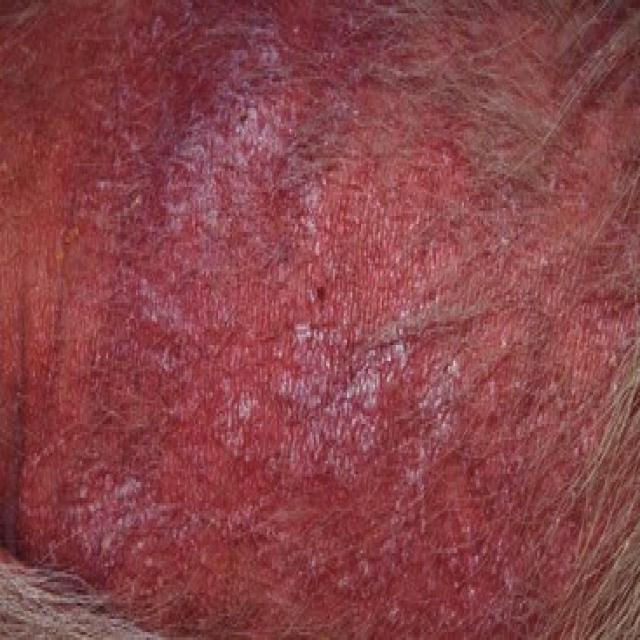fungal infection: (101, 0, 364, 245), (246, 281, 501, 464), (19, 446, 288, 588), (305, 475, 548, 628), (386, 94, 571, 285), (102, 255, 232, 376), (218, 402, 282, 465)
